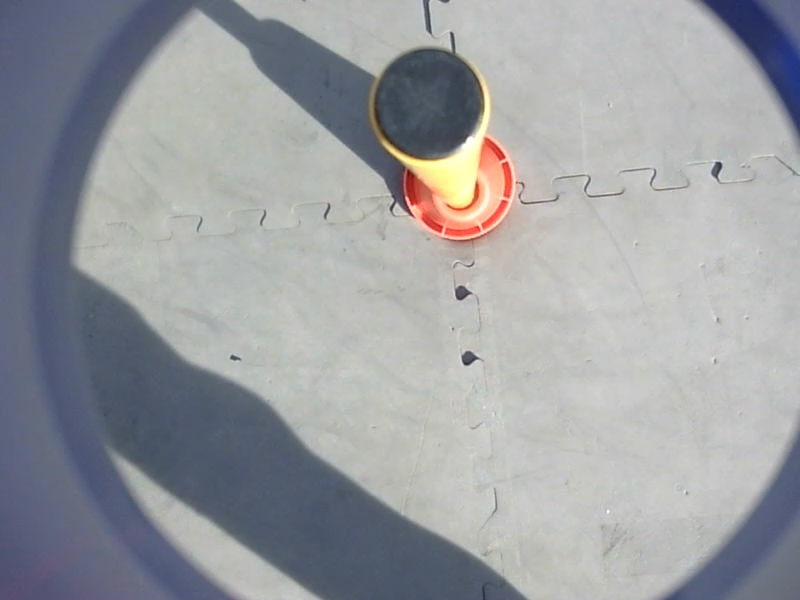tip: (364, 42, 493, 168)
